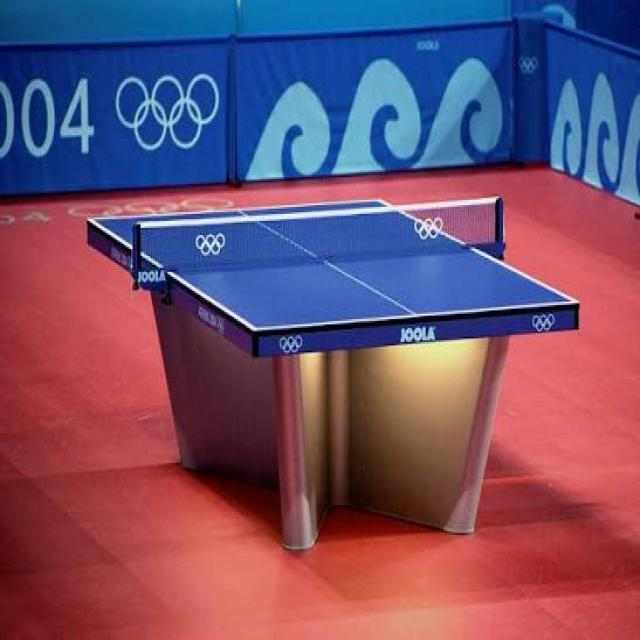TT Net: (130, 194, 508, 294)
TT Table: (89, 200, 579, 329)
